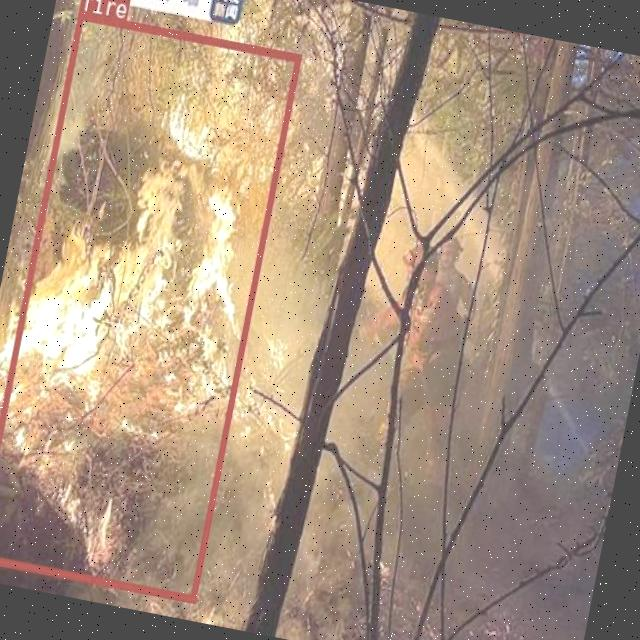fire: (0, 10, 301, 600)
